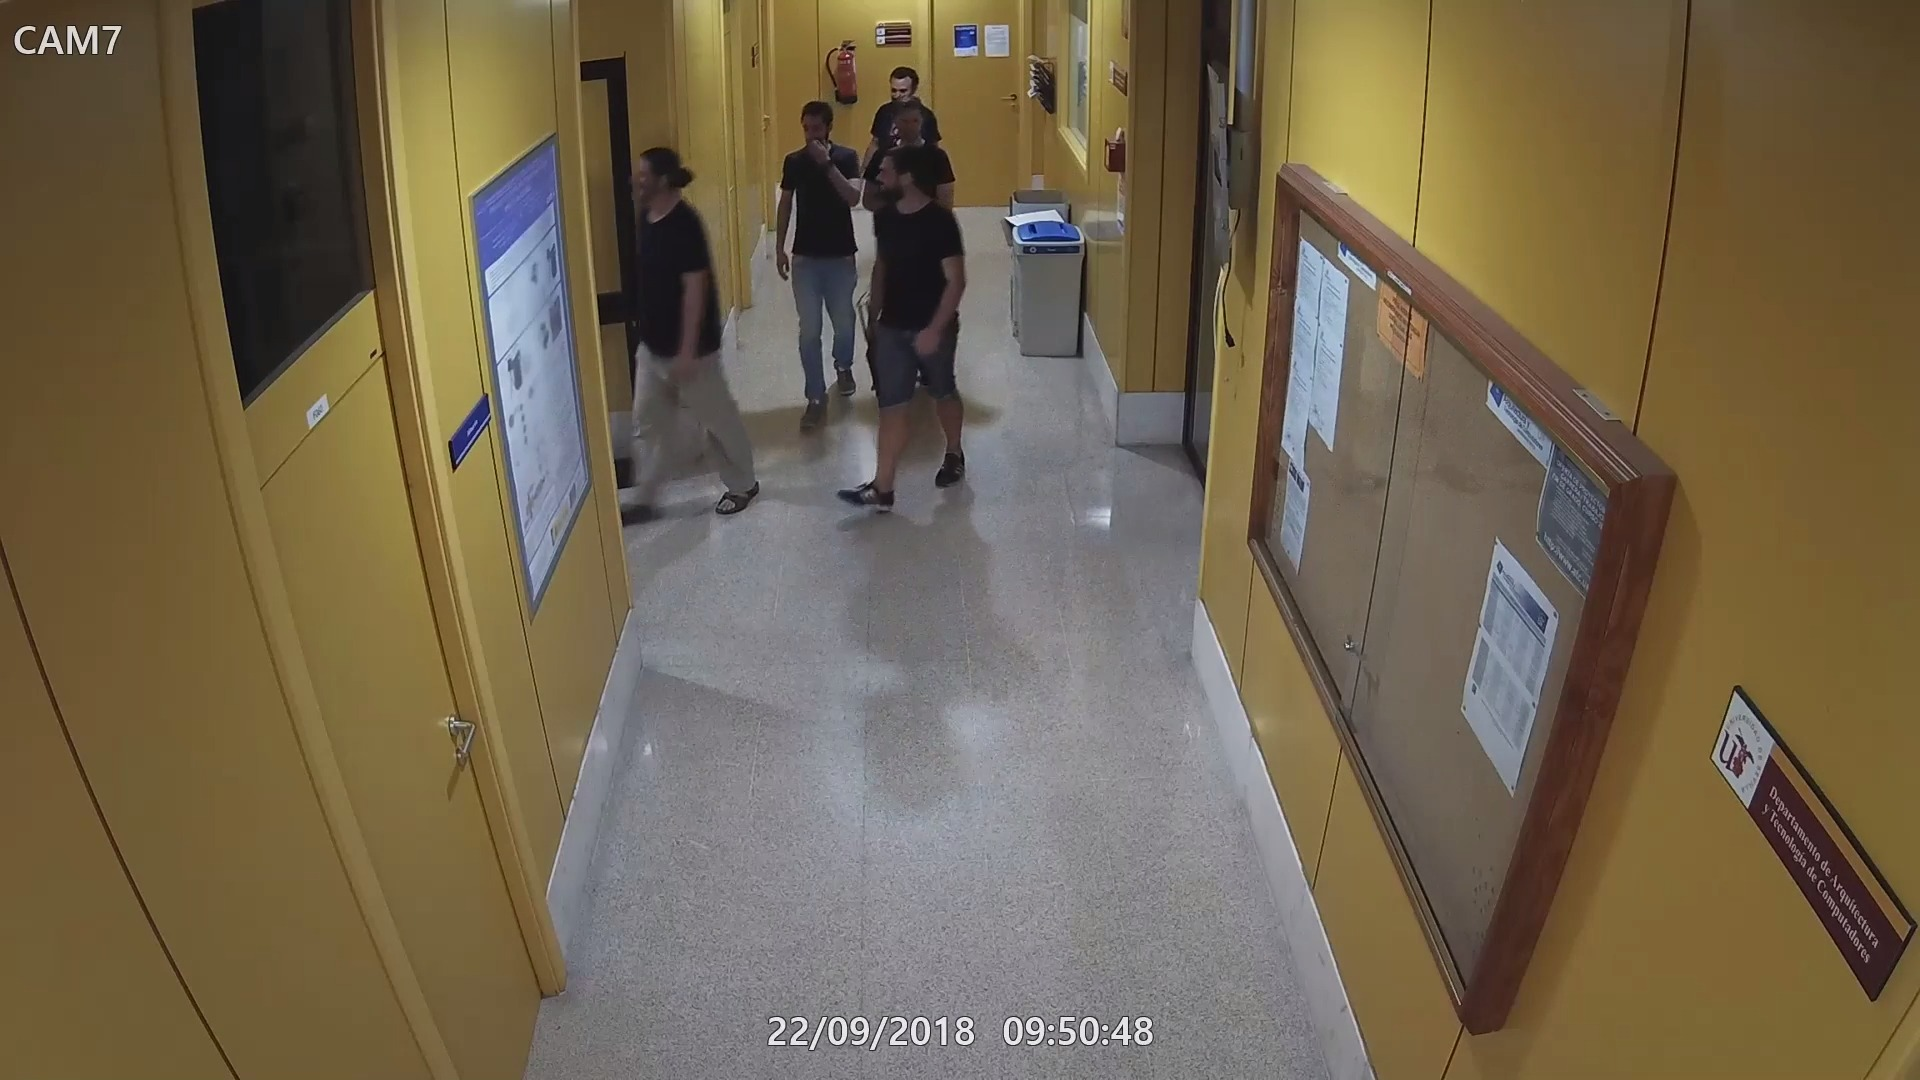rifle: (858, 272, 886, 397)
